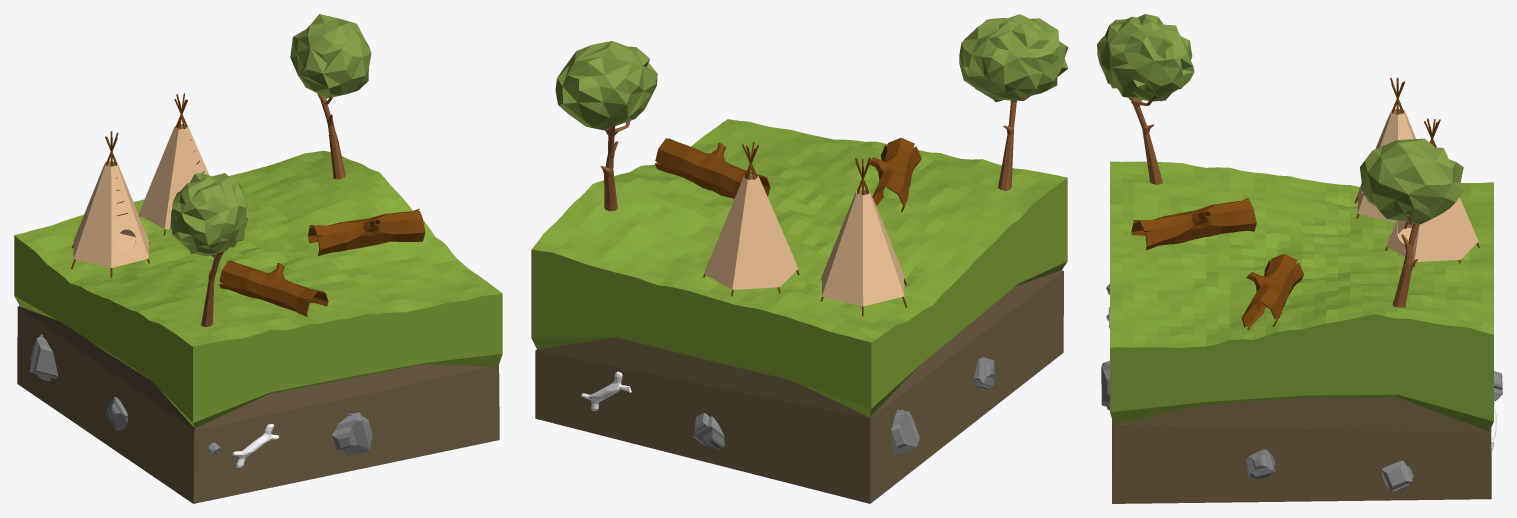
The model's file is troncos.glb.
3 views of the same model, side by side, from view 1: azimuth 30°, elevation 25°; view 2: azimuth 150°, elevation 25°; view 3: azimuth 270°, elevation 25° (orthographic). The views are drawn at different scales.
Parts seen in each view (by area): view 1: Cube, Cube.002, Icosphere, Icosphere.001, Cylinder.001, Cube.004, Cylinder, Cube.008, Cube.013, Cube.006, Cube.005, Cube.007; view 2: Cube, Icosphere, Icosphere.001, Cube.004, Cube.002, Cylinder.001, Cylinder, Cube.013, Cube.006, Cube.005, Cube.014, Cube.007 (+1 smaller); view 3: Cube, Icosphere.001, Icosphere, Cylinder, Cube.004, Cylinder.001, Cube.002, Cube.006, Cube.005, Cube.009, Cube.010.
Boxes of the visible parts, x1,y1,x2,y2 form: Cube: (14, 150, 502, 503); Cube.002: (73, 161, 148, 267); Icosphere: (170, 173, 248, 256); Icosphere.001: (290, 14, 371, 98); Cylinder.001: (308, 209, 425, 255); Cube.004: (138, 124, 209, 229); Cylinder: (219, 260, 328, 316); Cube.008: (332, 412, 372, 455); Cube.013: (29, 334, 57, 381); Cube.006: (317, 93, 345, 179); Cube.005: (201, 251, 224, 326); Cube.007: (232, 424, 279, 467); Cube: (531, 119, 1067, 503); Icosphere: (959, 14, 1068, 101); Icosphere.001: (555, 41, 657, 130); Cube.004: (704, 174, 798, 289); Cube.002: (821, 189, 904, 306); Cylinder.001: (655, 138, 770, 198); Cylinder: (869, 137, 921, 211); Cube.013: (891, 409, 919, 455); Cube.006: (600, 120, 630, 211); Cube.005: (998, 97, 1026, 190); Cube.014: (693, 413, 724, 449); Cube.007: (581, 371, 631, 410); Cube: (1110, 161, 1493, 503); Icosphere.001: (1360, 138, 1464, 224); Icosphere: (1097, 14, 1194, 101); Cylinder: (1131, 198, 1256, 250); Cube.004: (1386, 197, 1478, 261); Cylinder.001: (1241, 253, 1303, 329); Cube.002: (1357, 108, 1415, 222); Cube.006: (1392, 214, 1419, 307); Cube.005: (1128, 95, 1162, 184); Cube.009: (1381, 460, 1413, 491); Cube.010: (1246, 449, 1275, 479).
Size of the model in its own units: 333 by 310 by 329.
